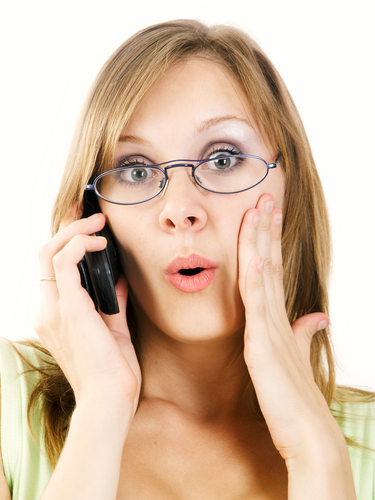phone: (36, 212, 145, 348)
talk: (34, 112, 281, 387)
